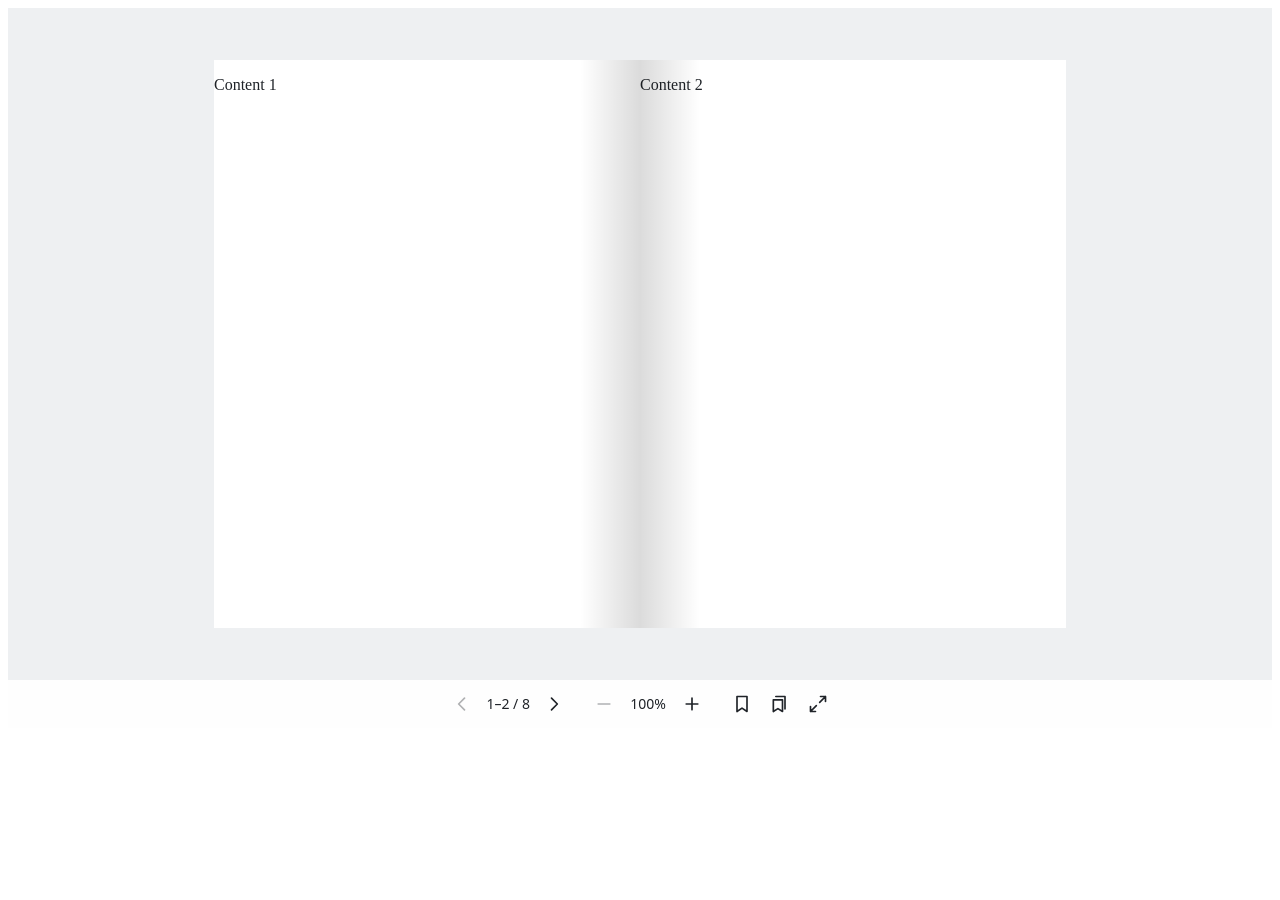
Test: the bookmark list › says so when there are none
Click the button named "Bookmarks" at {"x": 780, "y": 704}, box [762,686,798,722]
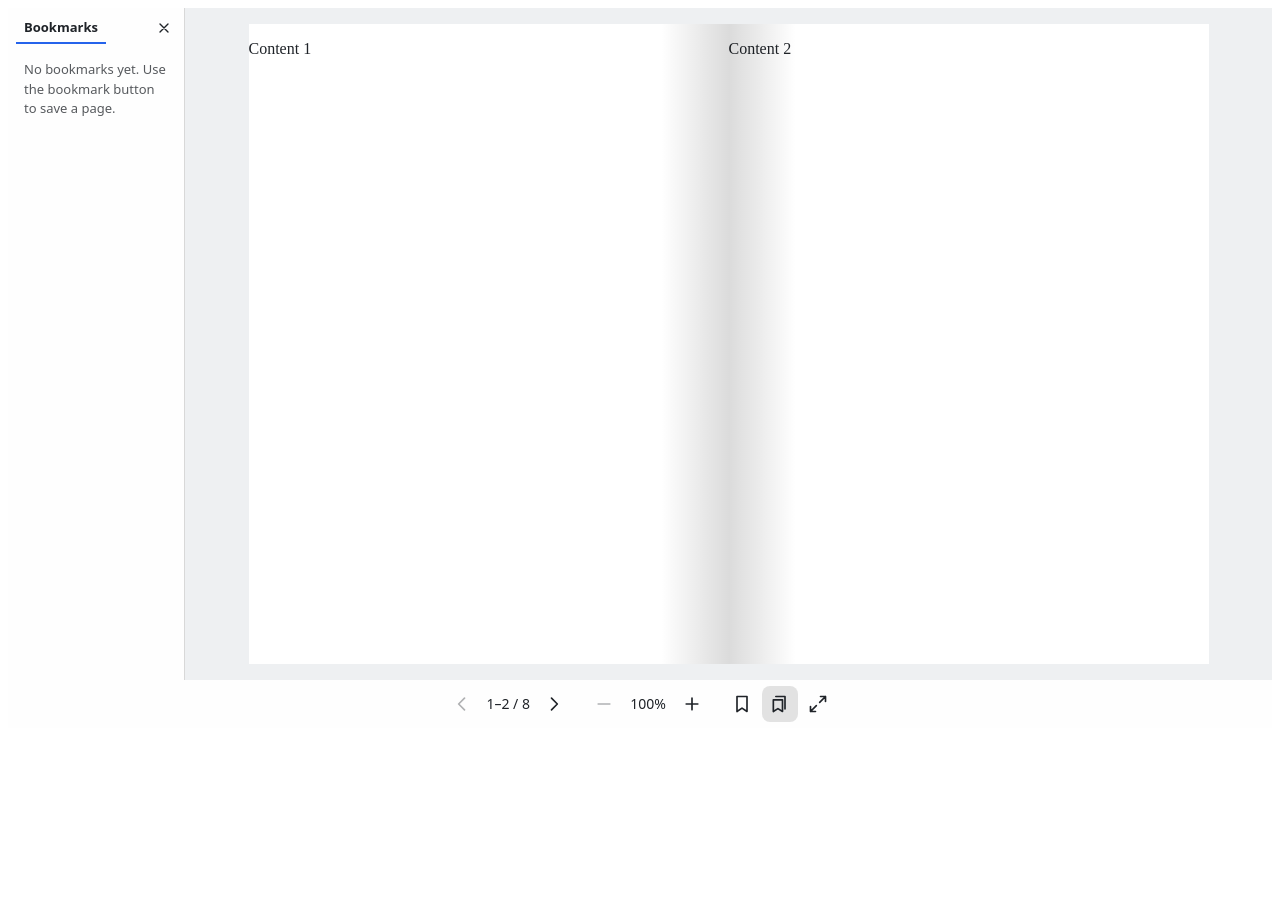
Now the text "No bookmarks yet. Use the bookmark button to save a page." is shown, box [24,60,166,117]
